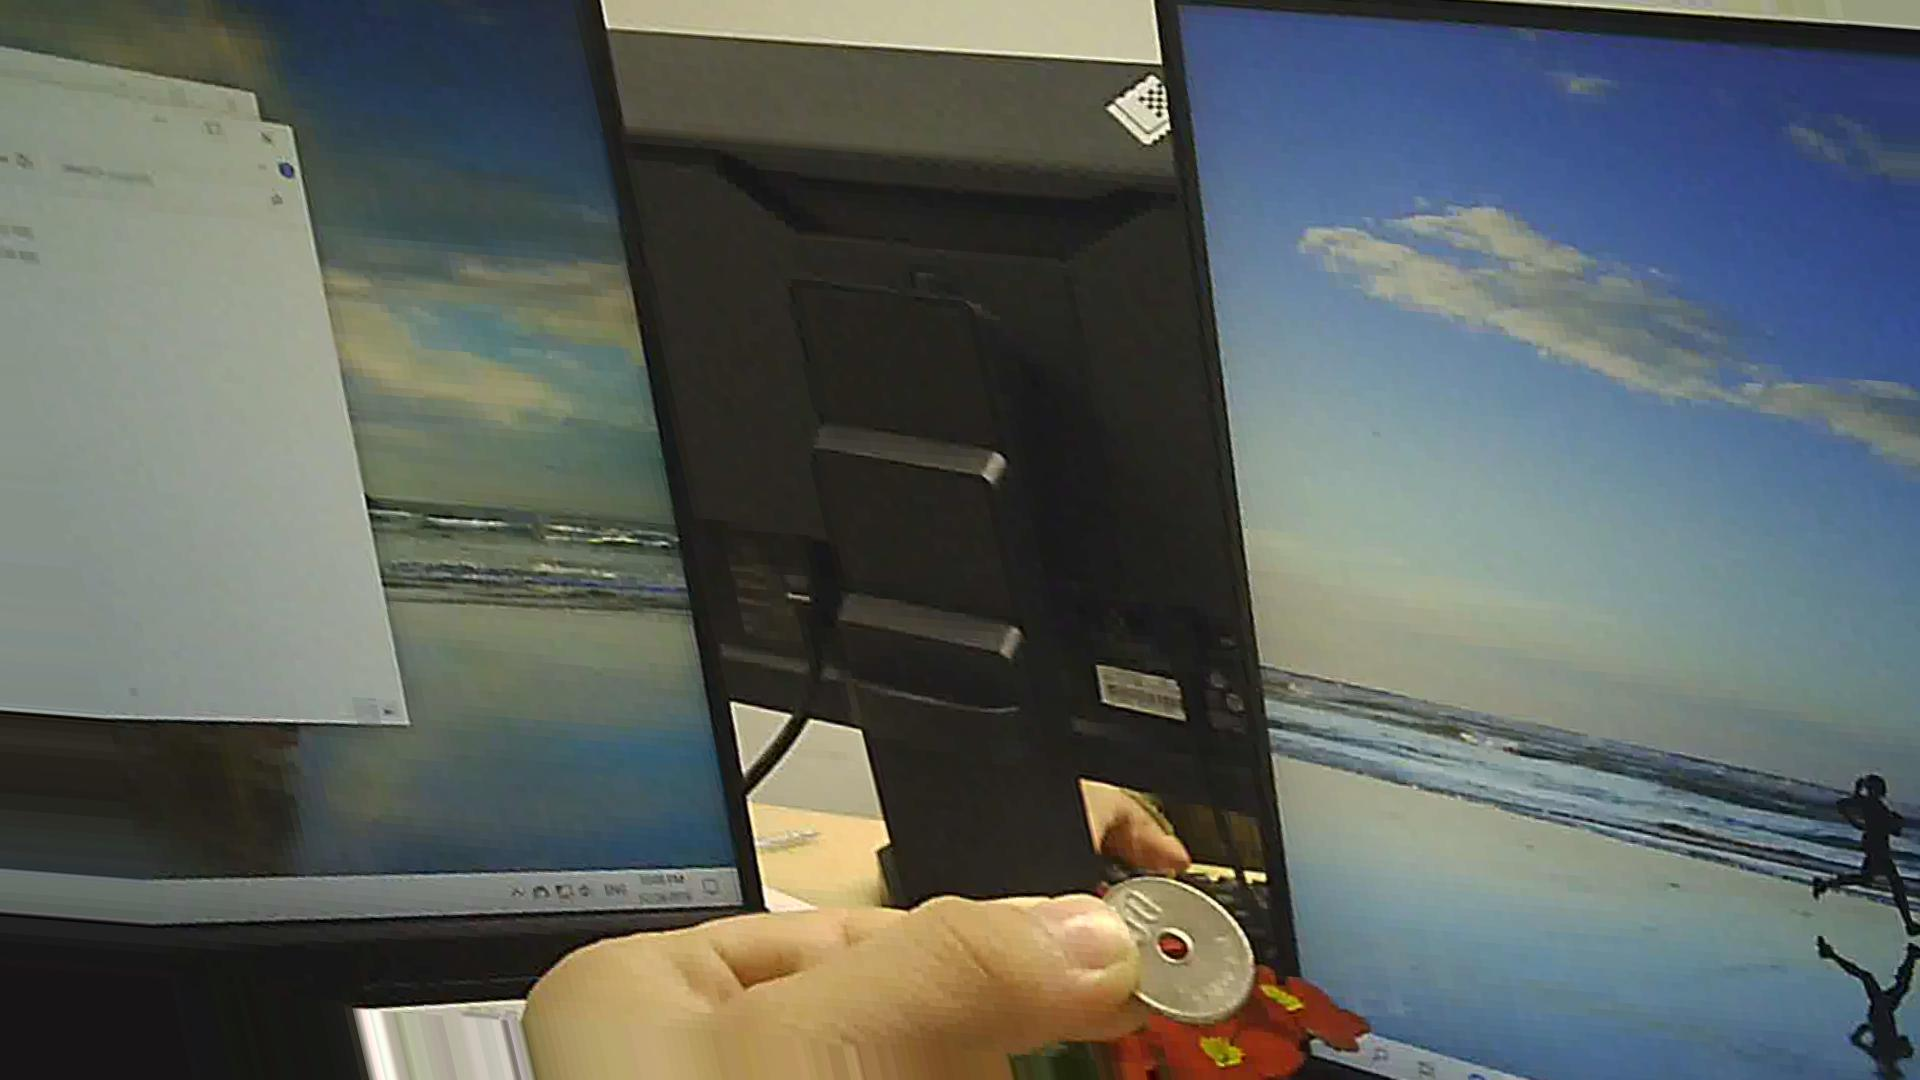50 Yen: (1085, 860, 1269, 1025)
